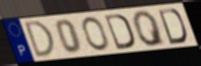0: (55, 19, 84, 56)
D: (23, 19, 58, 60), (103, 12, 136, 51), (157, 8, 189, 46)
O: (81, 16, 111, 52)
Q: (131, 9, 168, 48)
